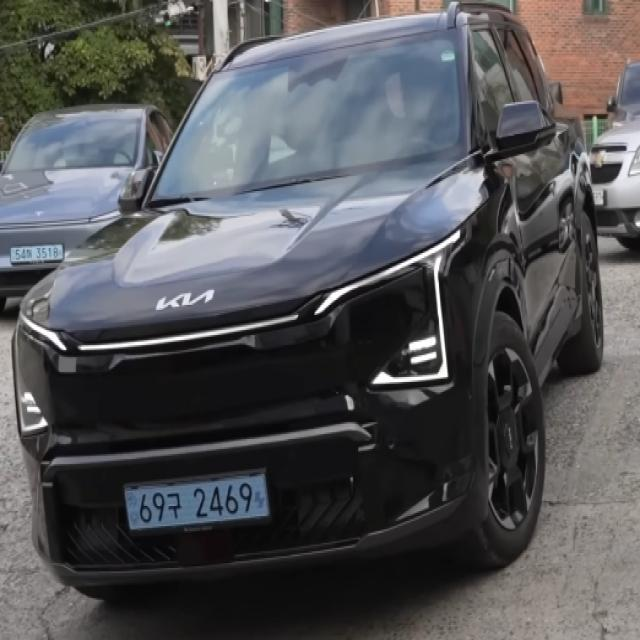car: (113, 461, 281, 546), (4, 237, 66, 269)
carev: (252, 472, 275, 525), (120, 482, 141, 536), (56, 240, 65, 265), (7, 241, 15, 266)
